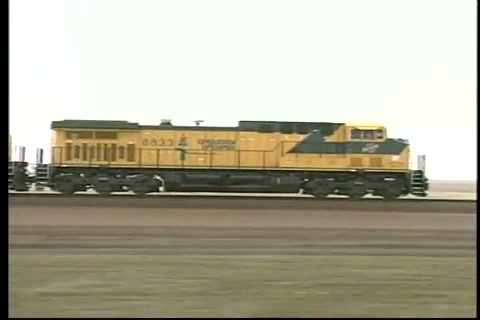train: (9, 109, 430, 199)
